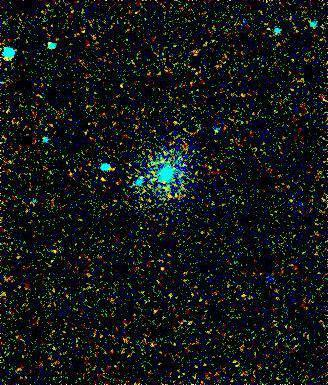star: (89, 163, 119, 193)
